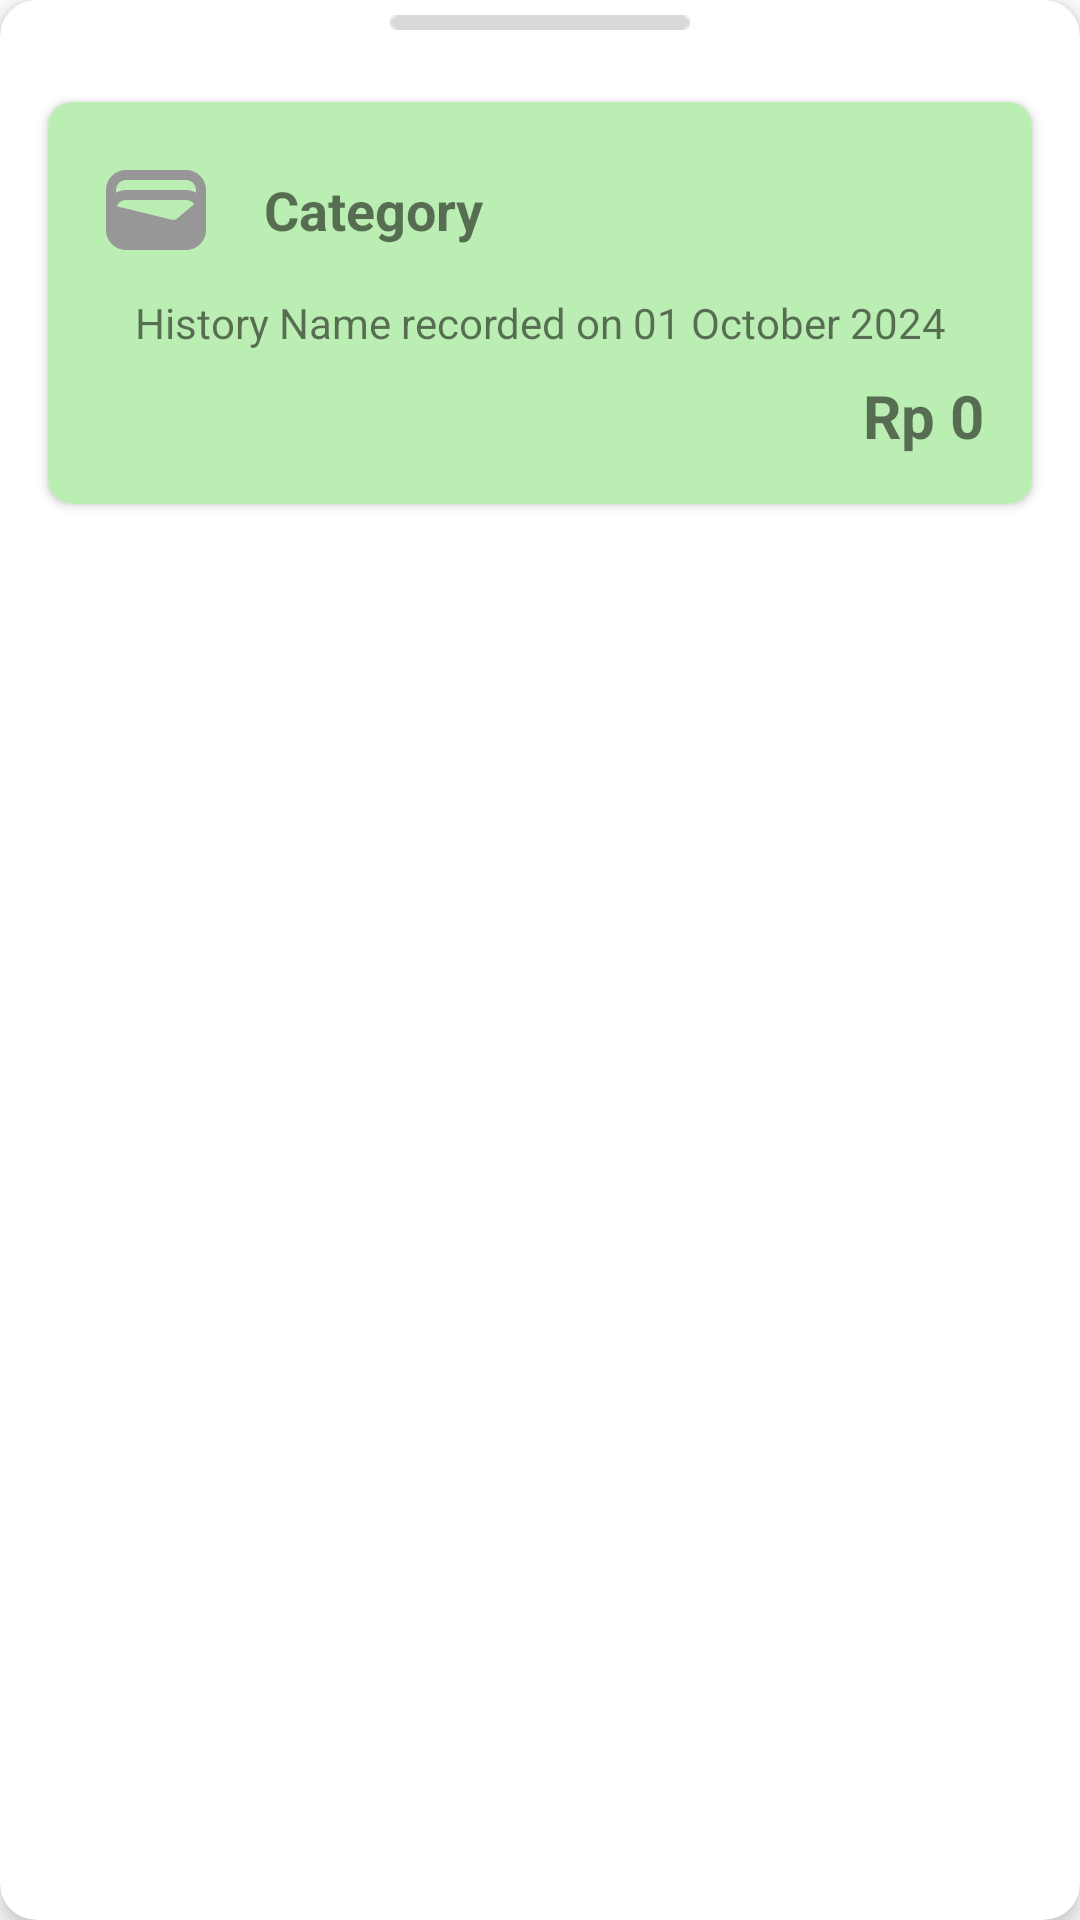

Point at icon controls on the screen. Image size 1080×1920, points as (x=x, y=y).
wallet: (x=156, y=210)
